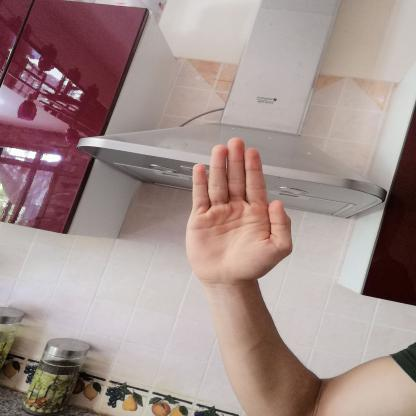SEEN: (173, 130, 301, 290)
